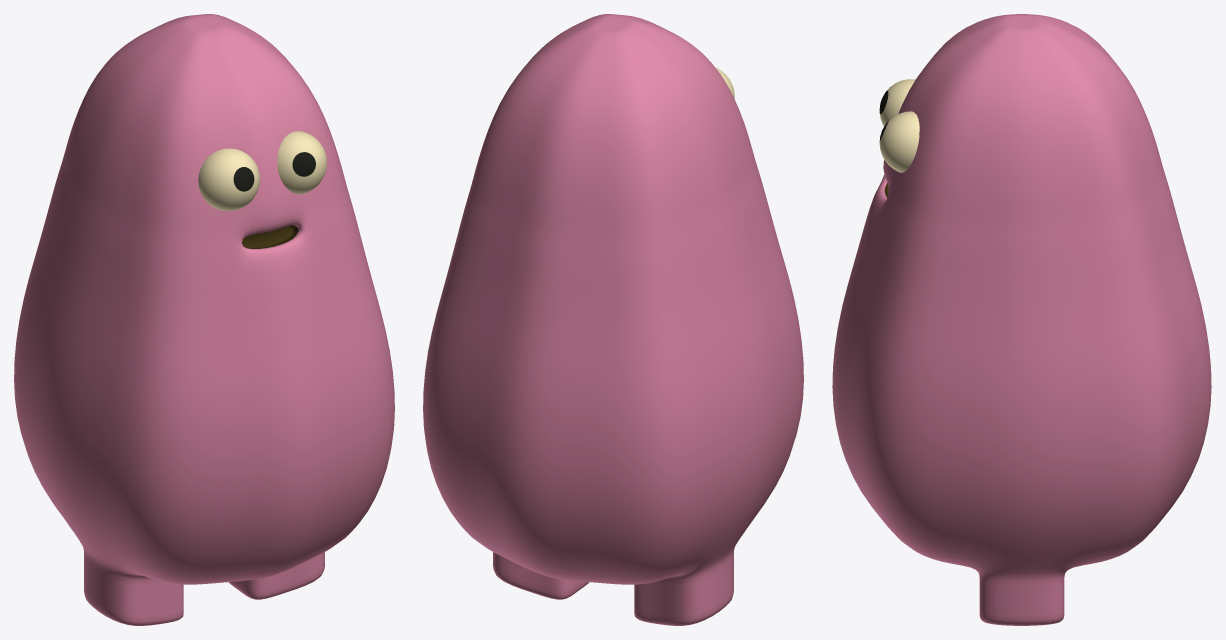
File: 6. karakter.fbx
The picture shows the model from 3 angles, left to right: view 1: azimuth 30°, elevation 25°; view 2: azimuth 150°, elevation 25°; view 3: azimuth 270°, elevation 25°; orthographic projection.
Parts seen in each view (by area): view 1: Cube, Sphere, Sphere.001; view 2: Cube; view 3: Cube, Sphere.001, Sphere.
Part boxes in pixels (x1,y1,x2,y2): Cube: (14,14,394,625); Sphere: (198,148,259,210); Sphere.001: (277,131,326,194); Cube: (423,14,803,625); Cube: (832,14,1211,625); Sphere.001: (879,111,919,172); Sphere: (879,79,915,126).
Size of the model in its own units: 201 by 370 by 224.
